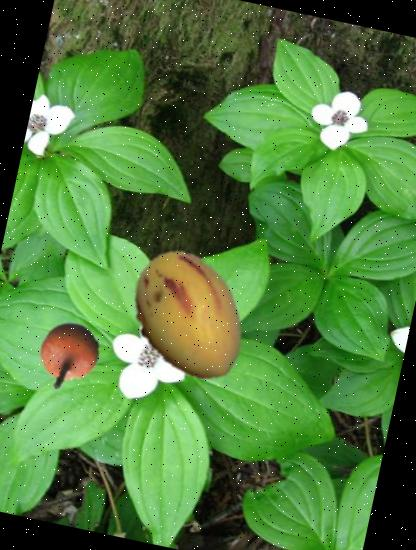Granadilla: (32, 316, 108, 393)
Pepino: (105, 234, 270, 400)
